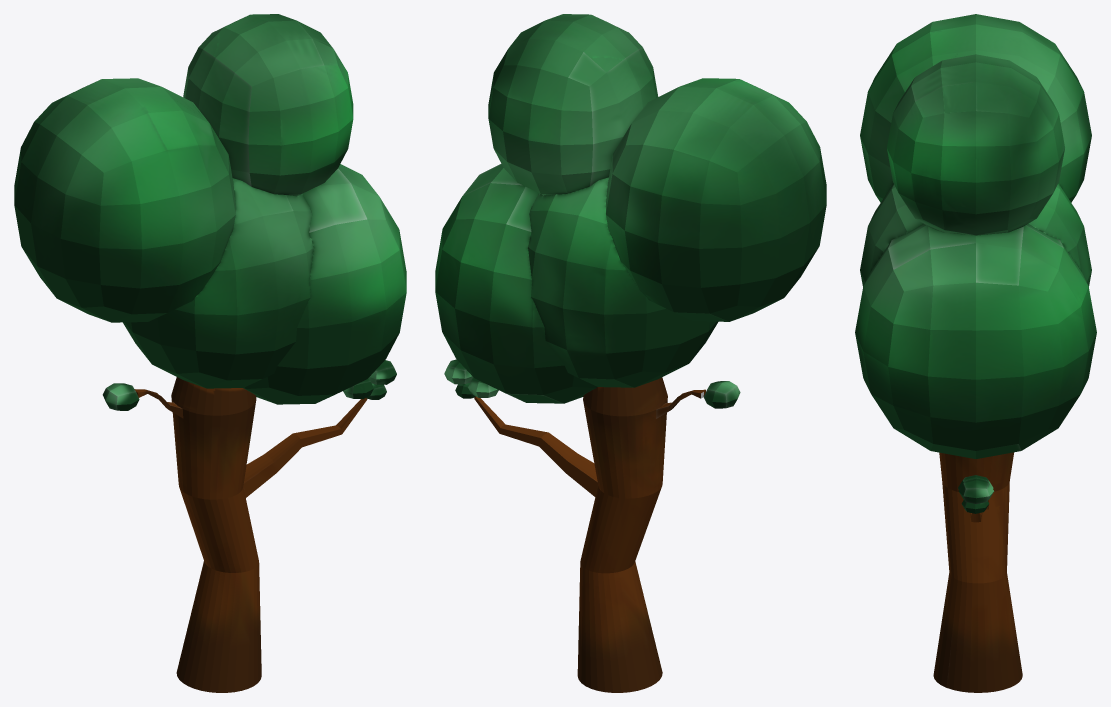
The model's file is treetwo.fbx.
3 renders of one model, left to right at view 1: azimuth 30°, elevation 25°; view 2: azimuth 150°, elevation 25°; view 3: azimuth 270°, elevation 25°, orthographic.
Visible parts, largest first — view 1: tree2; view 2: tree2; view 3: tree2.
Boxes of the visible parts, bbox=[...] form: tree2: bbox=[14, 14, 406, 692]; tree2: bbox=[435, 14, 826, 692]; tree2: bbox=[855, 14, 1096, 692].
Size of the model in its own units: 13.81 by 8.02 by 23.27.
